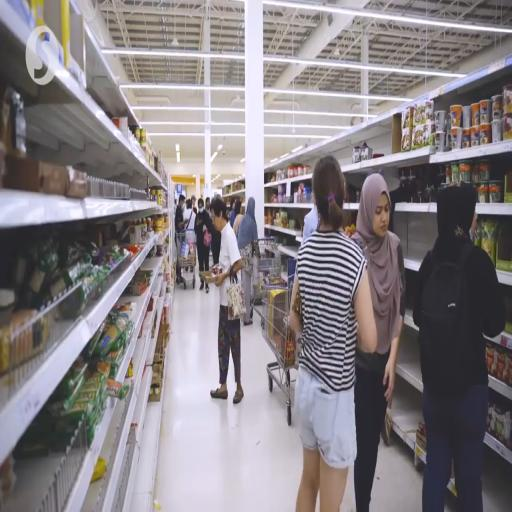shopping_cart: (261, 258, 298, 426), (250, 237, 281, 328), (176, 228, 197, 289)
